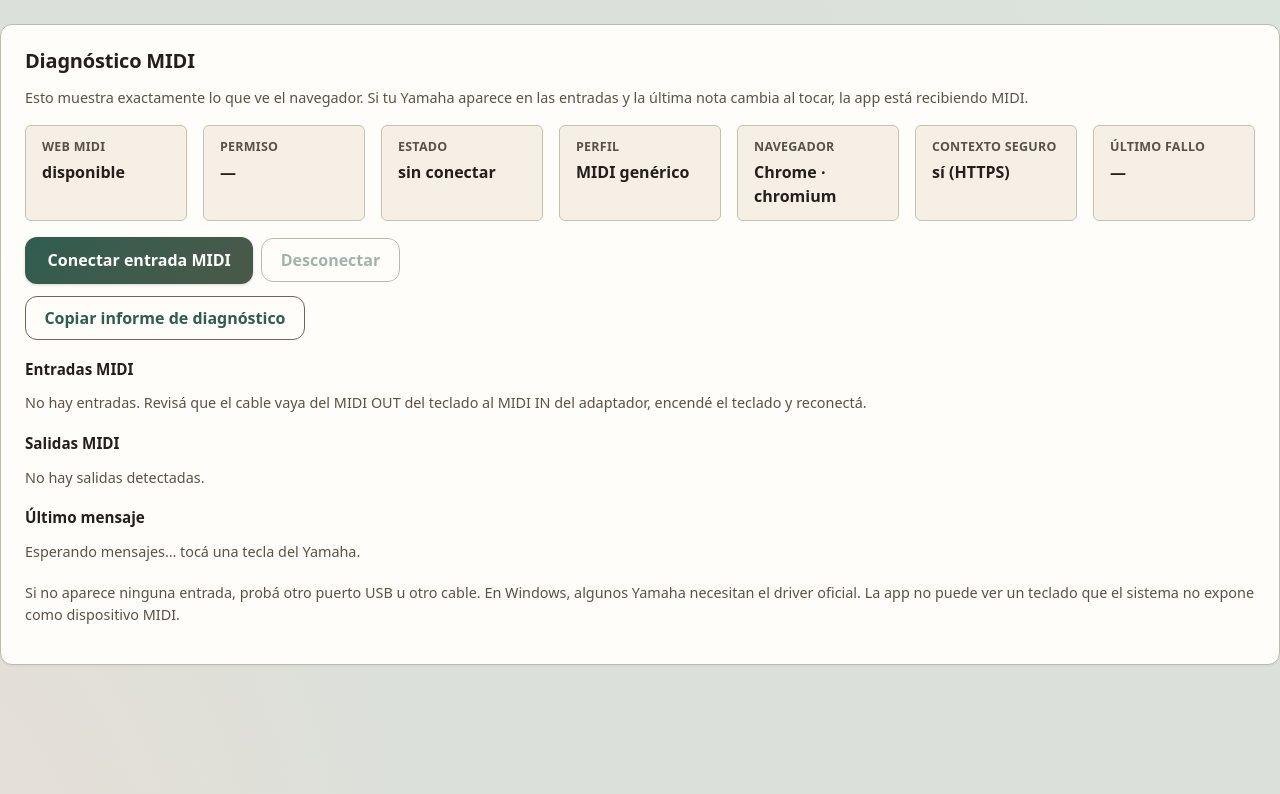
Scenario: F7-010 — diagnóstico con datos reales e informe copiable › muestra navegador, contexto seguro y el fallo con su nombre y mensaje
Click the button "Conectar entrada MIDI". click: coordinates (139, 260)
box: [25,237,253,284]
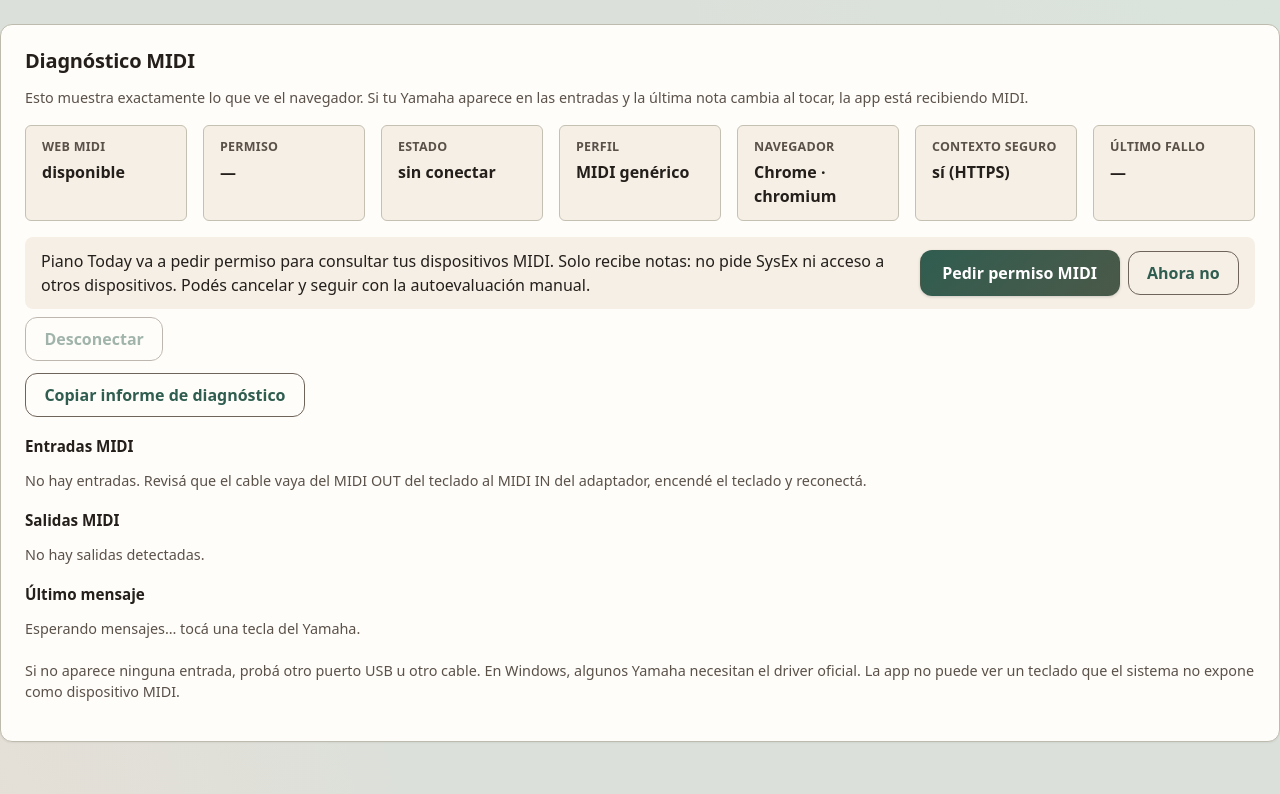
Click the button "Pedir permiso MIDI". click: coordinates (1020, 273)
box: [920,250,1120,296]
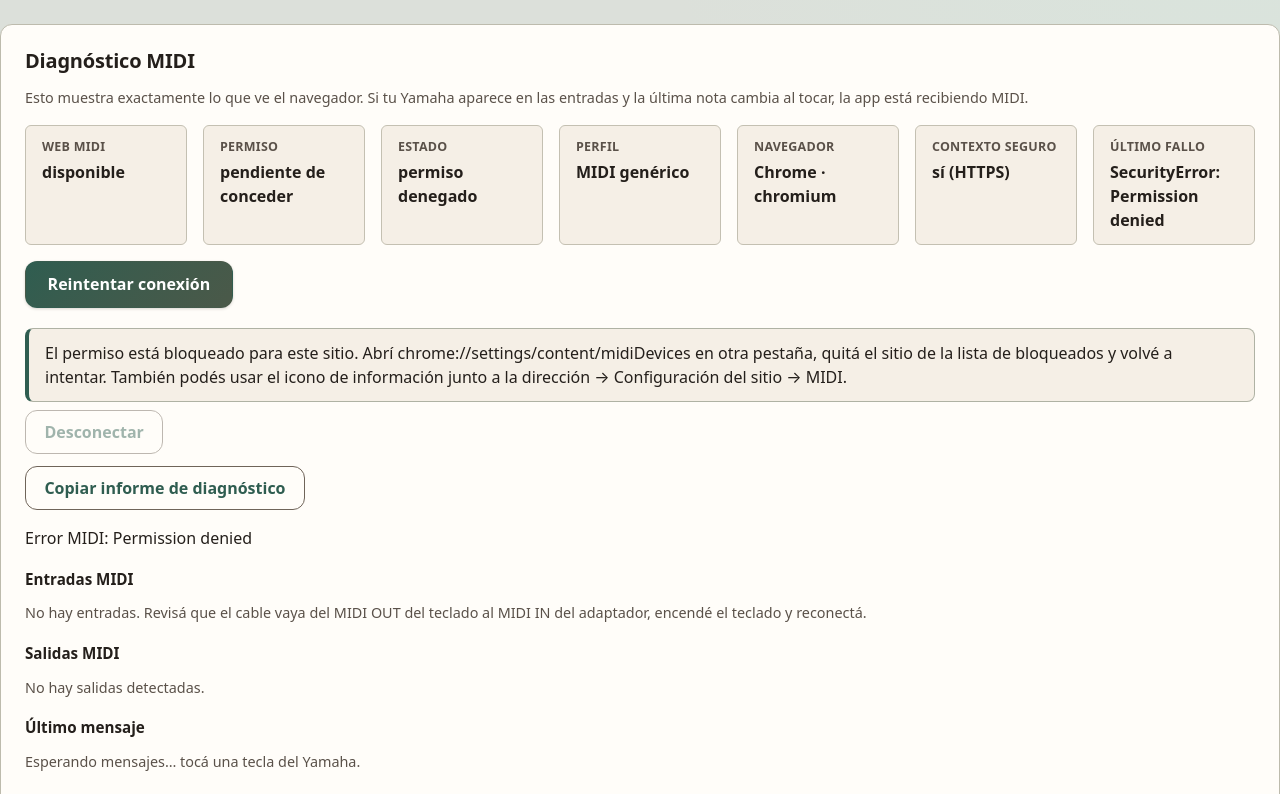
Expected: the text "Navegador" is shown, [754,138,835,155]
Expected: the text "SecurityError: Permission denied" is shown, [1110,160,1238,232]
